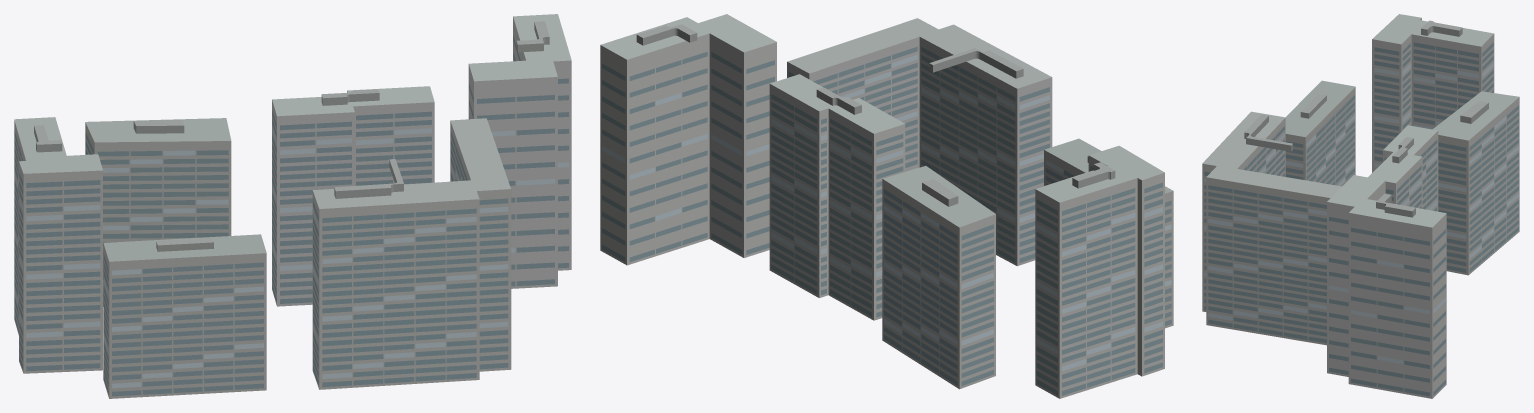
The model's file is apt-a13392307.glb.
3 renders of one model, left to right at view 1: azimuth 30°, elevation 25°; view 2: azimuth 150°, elevation 25°; view 3: azimuth 270°, elevation 25°, orthographic. The views are drawn at different scales.
Visible parts, largest first — view 1: apt-a13392307; view 2: apt-a13392307; view 3: apt-a13392307.
Part boxes in pixels (x1,y1,x2,y2): apt-a13392307: (14,14,571,398); apt-a13392307: (600,14,1173,398); apt-a13392307: (1202,14,1519,398).
Bounding box in the file's own units: 182 × 68 × 110.
